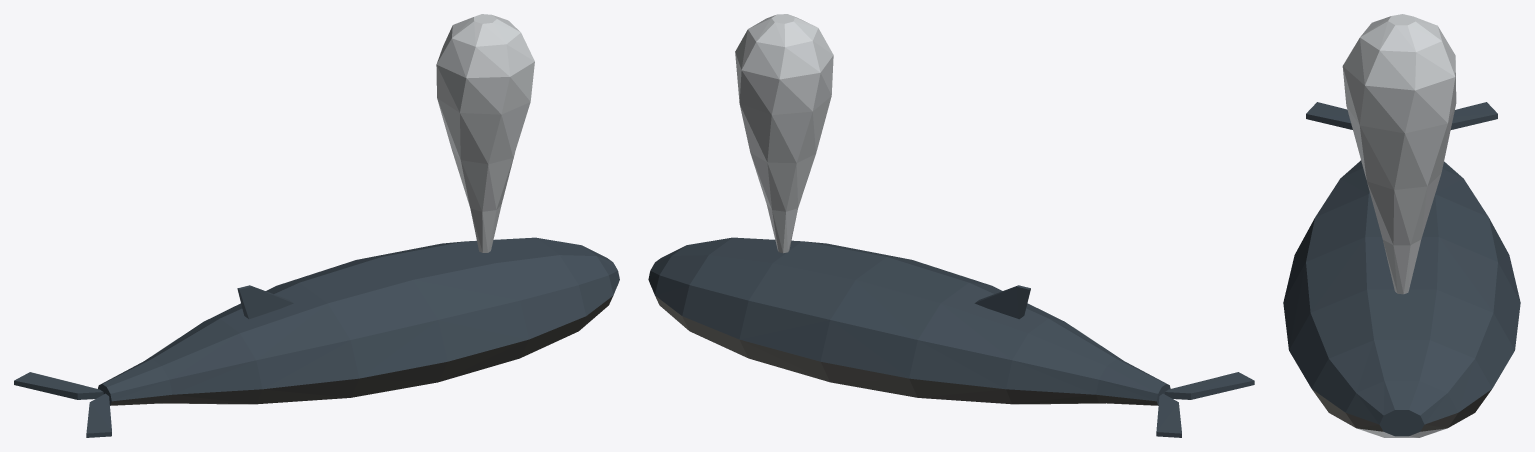
Rendered from whale.glb.
3 renders of one model, left to right at view 1: azimuth 30°, elevation 25°; view 2: azimuth 150°, elevation 25°; view 3: azimuth 270°, elevation 25°, orthographic. The views are drawn at different scales.
Parts seen in each view (by area): view 1: back, spout; view 2: back, spout; view 3: back, spout.
Part boxes in pixels (left/top/right/bottom): back: left=14, top=237, right=619, bottom=437; spout: left=436, top=14, right=534, bottom=252; back: left=648, top=237, right=1254, bottom=437; spout: left=735, top=14, right=833, bottom=253; back: left=1283, top=102, right=1520, bottom=437; spout: left=1342, top=14, right=1456, bottom=294.
Bounding box in the file's own units: 2.68 × 1.51 × 0.84.
